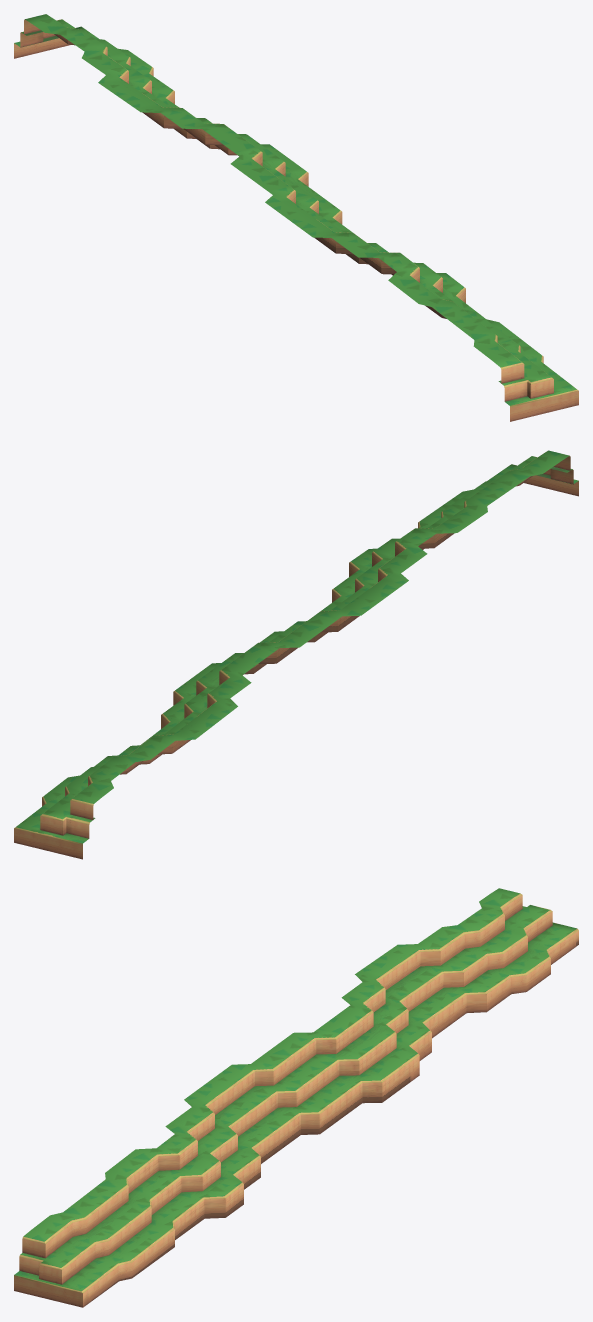
Rendered from Falaise_1.1.fbx.
3 renders of one model, top to bottom at view 1: azimuth 30°, elevation 25°; view 2: azimuth 150°, elevation 25°; view 3: azimuth 330°, elevation 25°, orthographic.
Parts seen in each view (by area): view 1: Falaise_1.1; view 2: Falaise_1.1; view 3: Falaise_1.1.
Part boxes in pixels (left/top/right/bottom): Falaise_1.1: left=14, top=14, right=578, bottom=421; Falaise_1.1: left=14, top=450, right=578, bottom=859; Falaise_1.1: left=14, top=888, right=578, bottom=1307.
Bounding box in the file's own units: 1726 × 899 × 15108.
